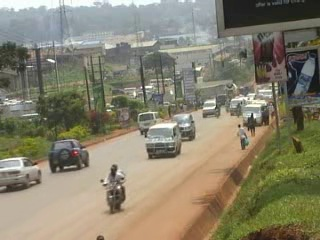Car: (44, 136, 91, 174), (0, 153, 44, 193), (168, 112, 197, 143), (201, 96, 219, 119)
Motorcycle: (100, 161, 127, 214), (210, 104, 223, 118), (233, 102, 242, 119)
